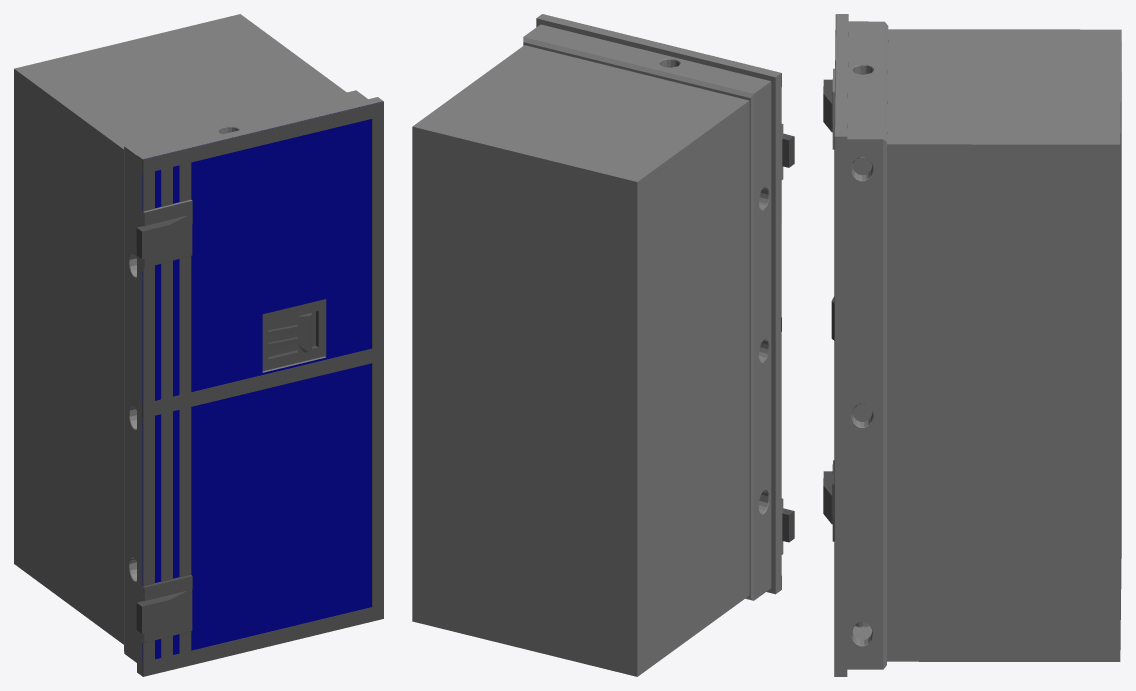
The model's file is Door_1x2_Bleu 1.fbx.
3 renders of one model, left to right at view 1: azimuth 30°, elevation 25°; view 2: azimuth 150°, elevation 25°; view 3: azimuth 270°, elevation 25°, orthographic. The views are drawn at different scales.
Visible parts, largest first — view 1: Door 1x2 Bleu; view 2: Door 1x2 Bleu; view 3: Door 1x2 Bleu.
Boxes of the visible parts, x1,y1,x2,y2 form: Door 1x2 Bleu: (14,14,383,676); Door 1x2 Bleu: (412,14,794,676); Door 1x2 Bleu: (823,14,1121,676).
Size of the model in its own units: 100 by 200 by 100.
